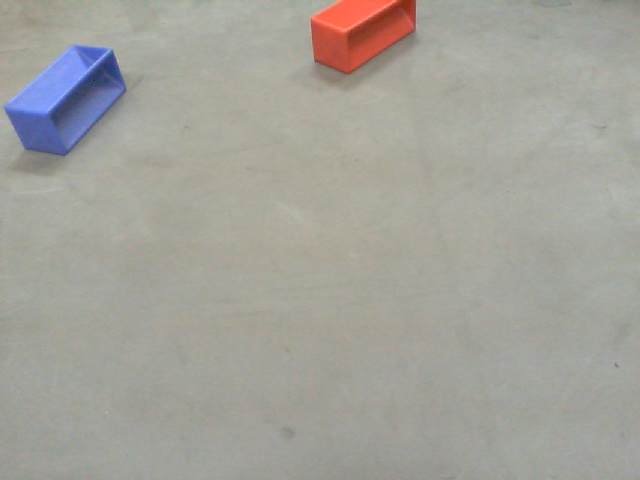BlueSample: (2, 40, 129, 165)
RedSample: (303, 1, 421, 73)
